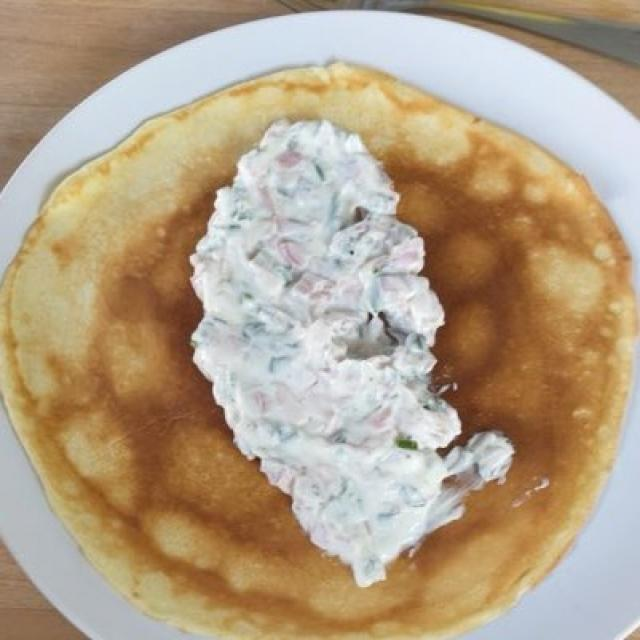crepe: (17, 73, 618, 620)
curd: (217, 128, 486, 585)
